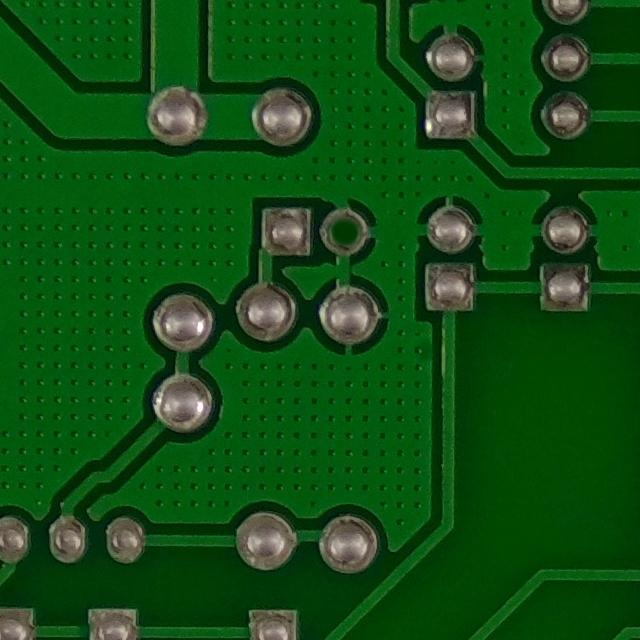missing_hole: (315, 198, 370, 263)
